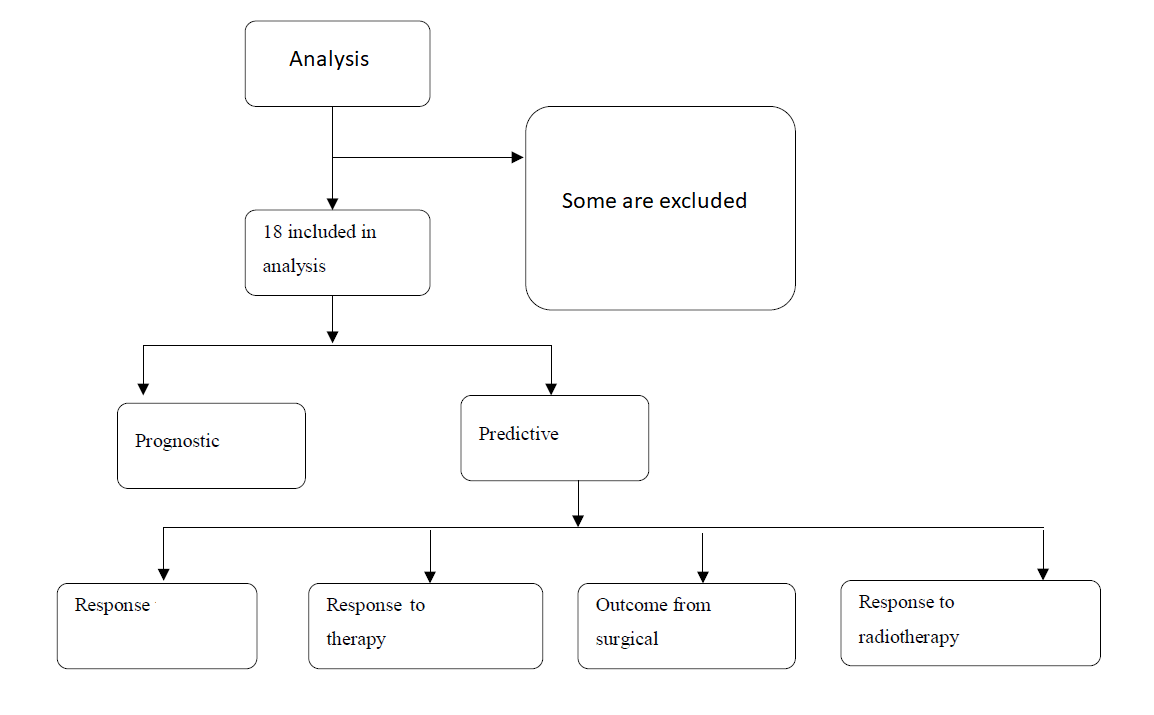arrow: (330, 342, 557, 396), (139, 340, 327, 402), (335, 152, 528, 167), (324, 110, 341, 208), (423, 528, 437, 585), (1036, 528, 1050, 583), (324, 295, 338, 344), (697, 529, 709, 585), (157, 524, 169, 579), (572, 484, 585, 529)
process: (523, 104, 795, 309), (841, 576, 1105, 669), (304, 582, 546, 671), (576, 581, 798, 673), (113, 400, 309, 493), (242, 206, 436, 299), (54, 582, 259, 670), (458, 392, 652, 483), (242, 20, 434, 109)
text: (260, 222, 384, 278), (595, 594, 712, 651), (858, 592, 961, 651), (324, 596, 429, 652), (560, 189, 754, 215), (135, 430, 222, 453), (475, 422, 560, 445), (289, 50, 370, 73), (72, 596, 152, 616)
